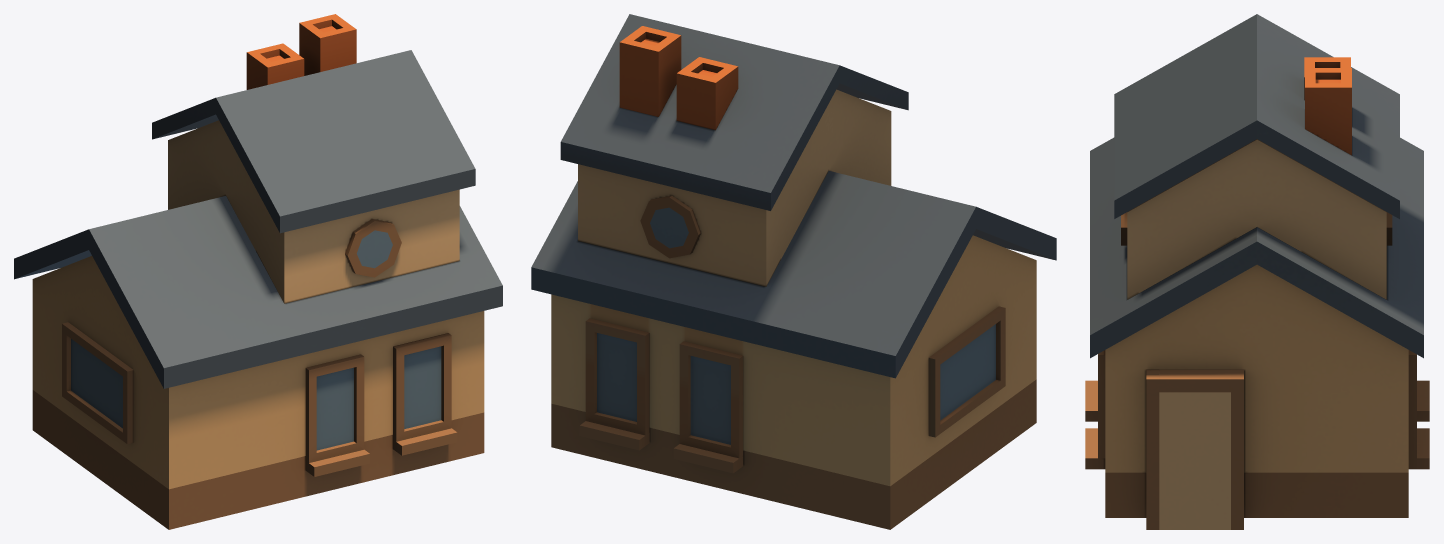
The model's file is PUSHILIN_house.obj.
3 renders of one model, left to right at view 1: azimuth 30°, elevation 25°; view 2: azimuth 150°, elevation 25°; view 3: azimuth 270°, elevation 25°, orthographic. The views are drawn at different scales.
Visible parts, largest first — view 1: house; view 2: house; view 3: house.
Part boxes in pixels (bbox=[...]): house: bbox=[14, 14, 502, 529]; house: bbox=[531, 14, 1056, 529]; house: bbox=[1085, 14, 1429, 529].
Size of the model in its own units: 1.43 by 1.46 by 1.11.
1 material, 1 textured.
